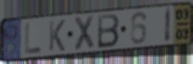6: (129, 11, 147, 46)
B: (97, 12, 121, 50)
I: (163, 7, 172, 44)
K: (48, 19, 66, 52)
L: (24, 21, 43, 56)
X: (73, 14, 96, 53)
